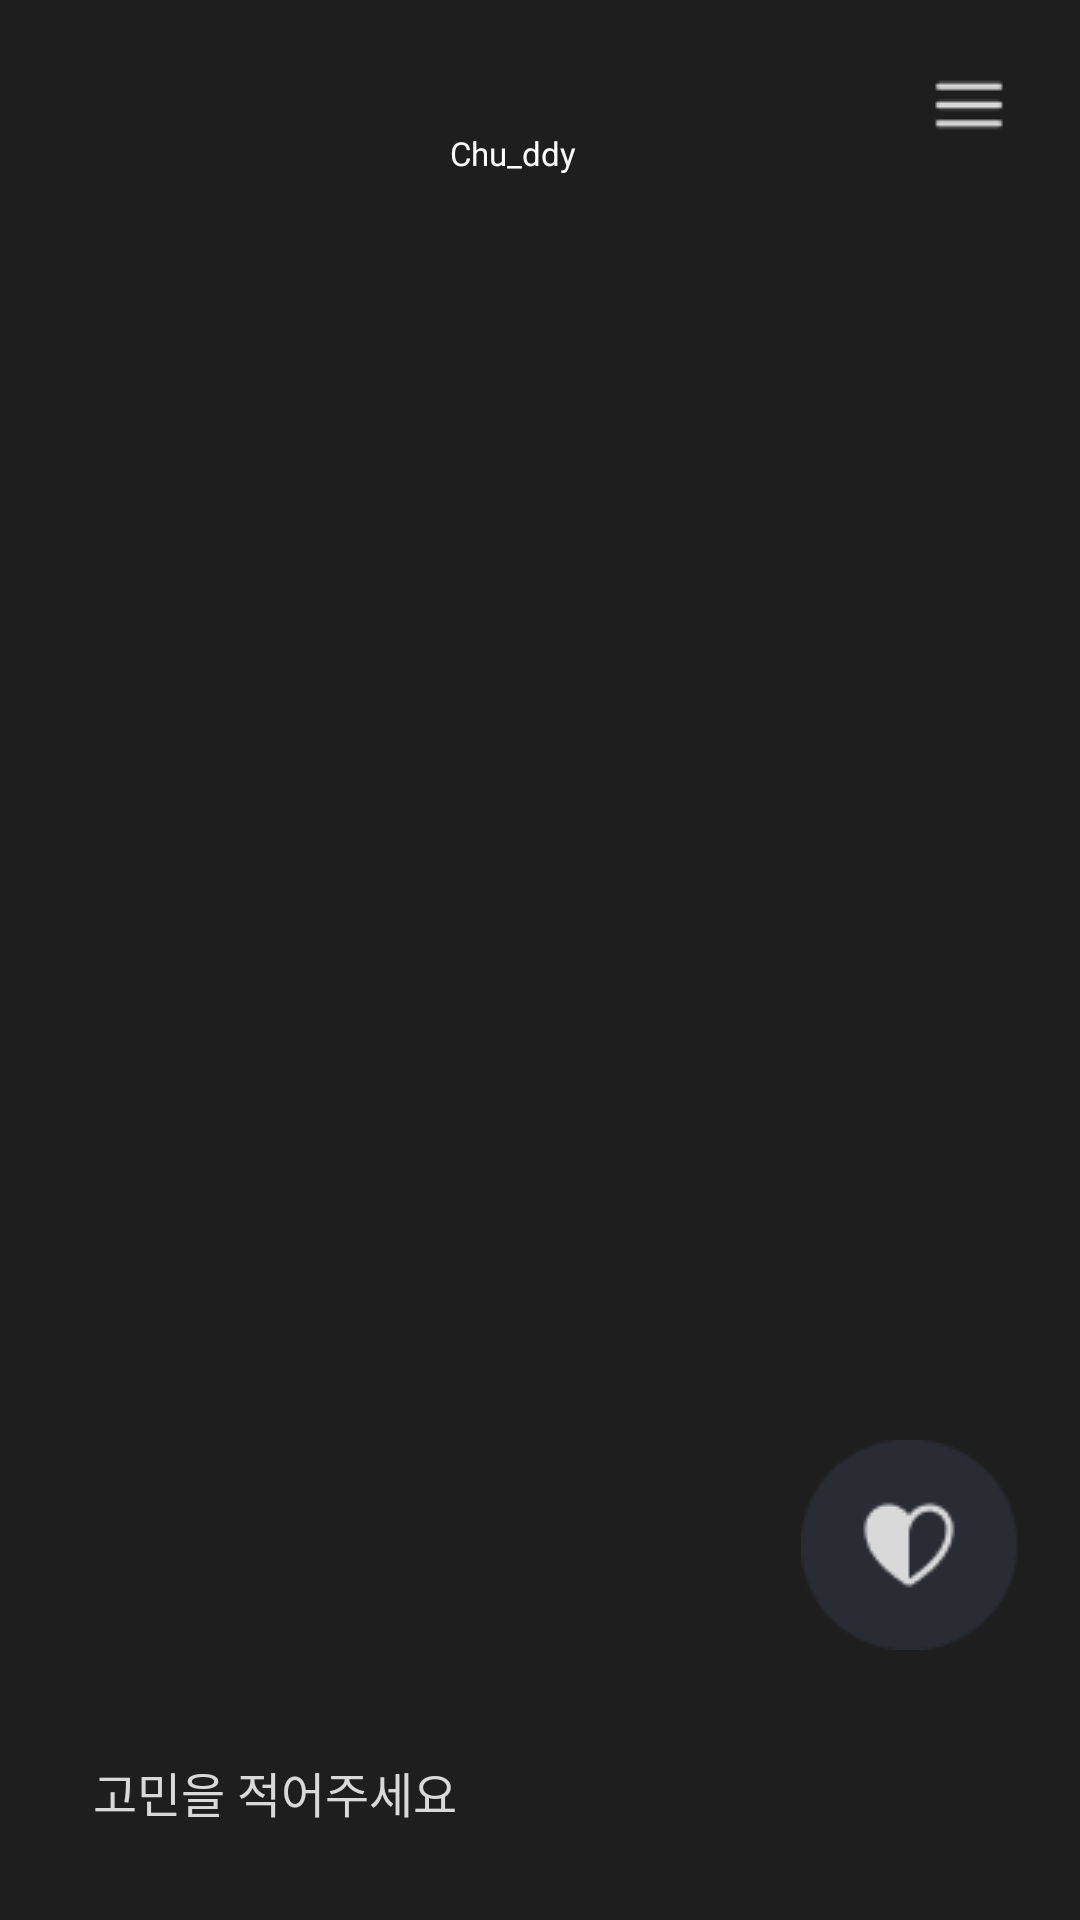

Point at icon controls on the screen. Image size 1080px×1920px, points as (x,y).
heart: (909,1545)
menu: (969,105)
